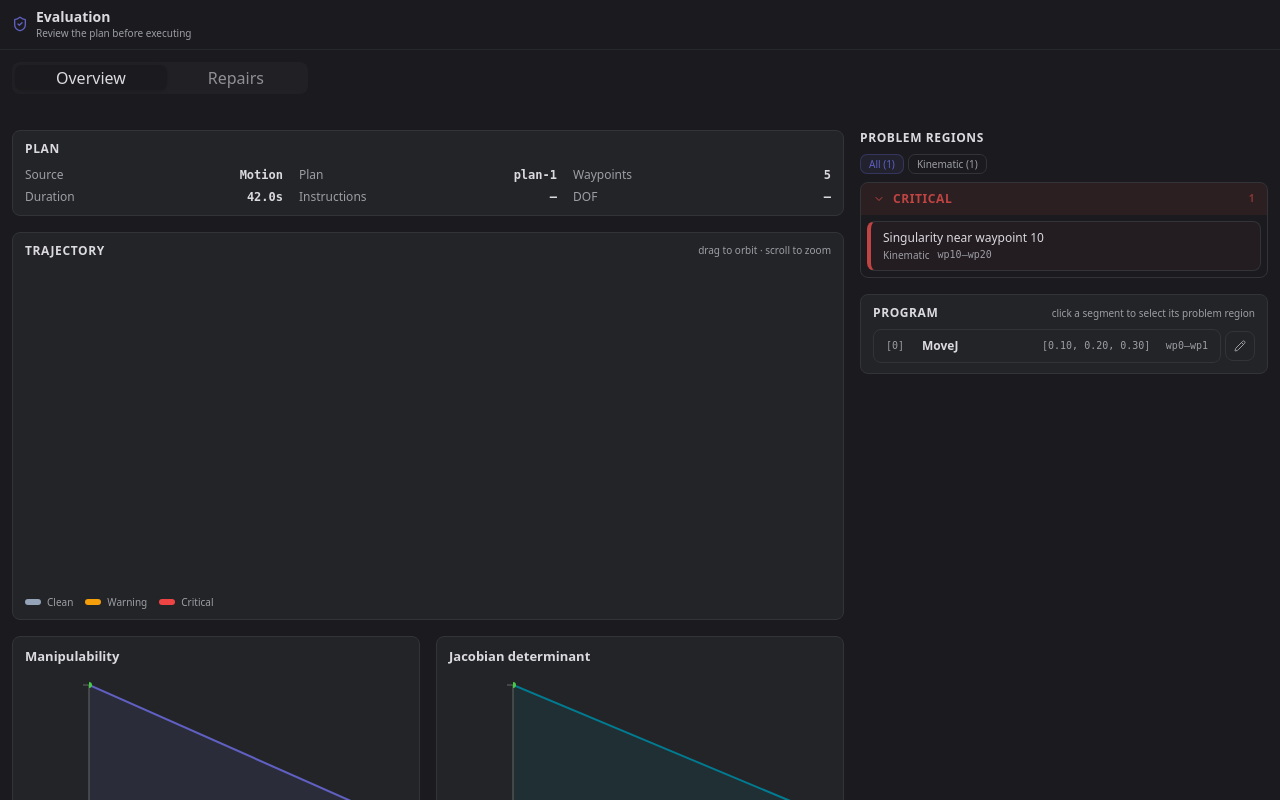
it: EvaluationWorkspace — master-detail layout (context | action) › removes the RegionInspector and keeps the list mounted when the selected region is deselected
The width and height of the screenshot is (1280, 800).
Note: Select → inspector shows next to the still-mounted list.
Click the button "Singularity near waypoint 10 Kinematic wp10–wp20" at x=963, y=237, box [867,221,1261,271]
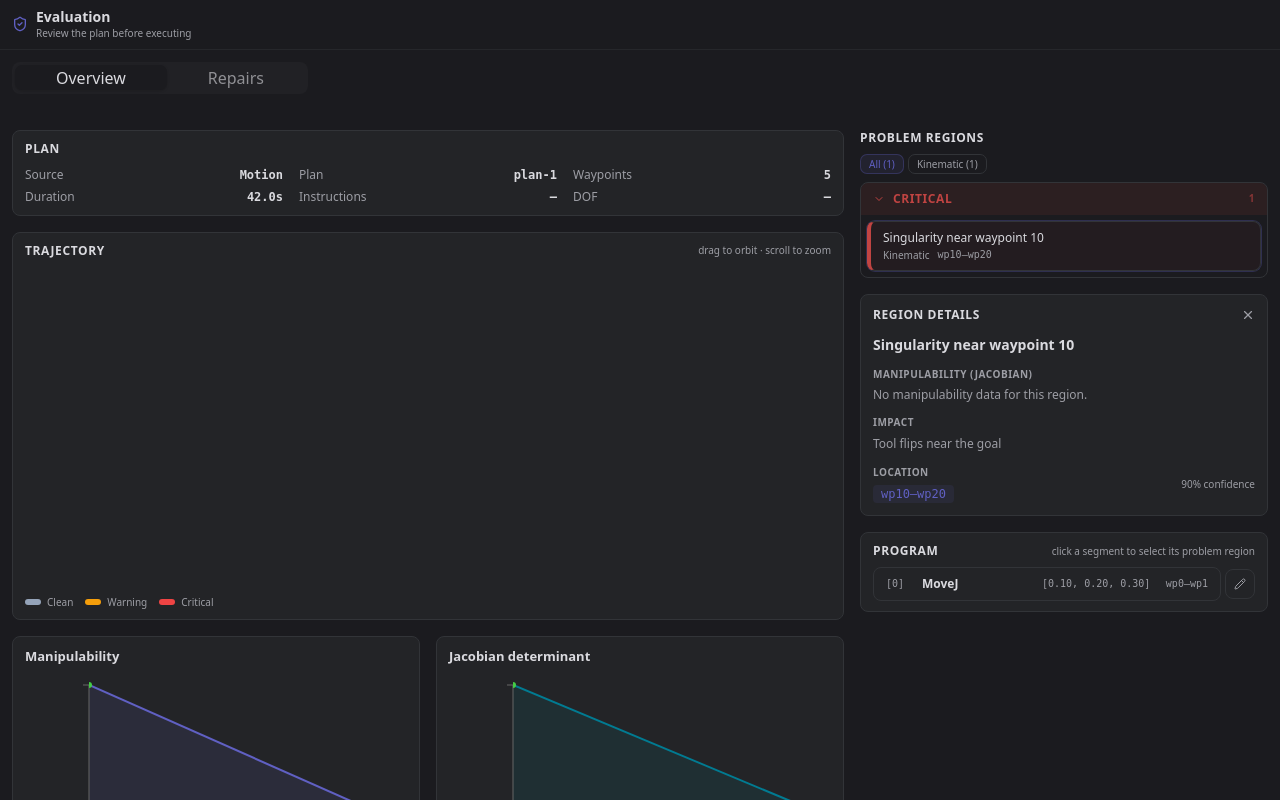
Now the heading "Region Details" is shown, box [873,307,980,323]
Note: Click the same region again → deselect, back to list-only view.
Click the button "Singularity near waypoint 10 Kinematic wp10–wp20" at x=963, y=237, box [867,221,1261,271]
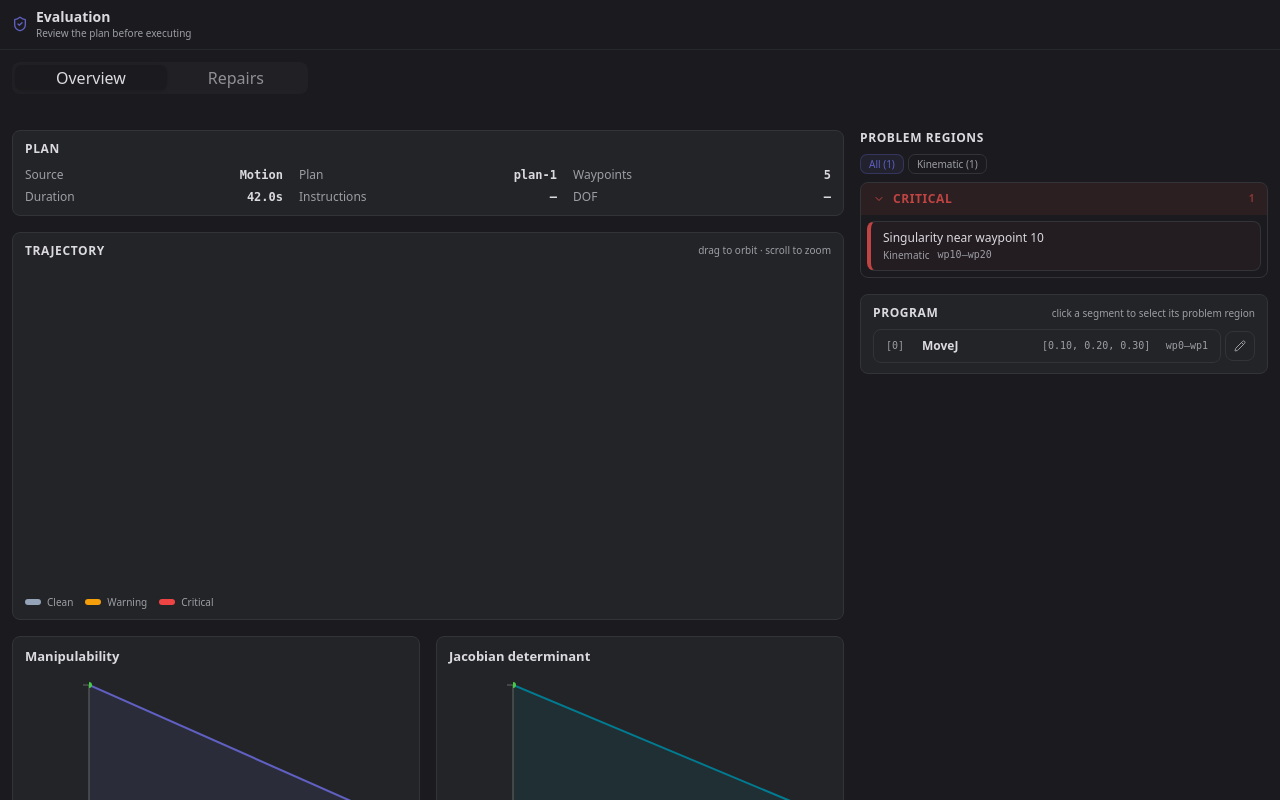
Expected: the heading "Problem Regions" is shown, [860,128,984,146]
Now the heading "Region Details" is gone
